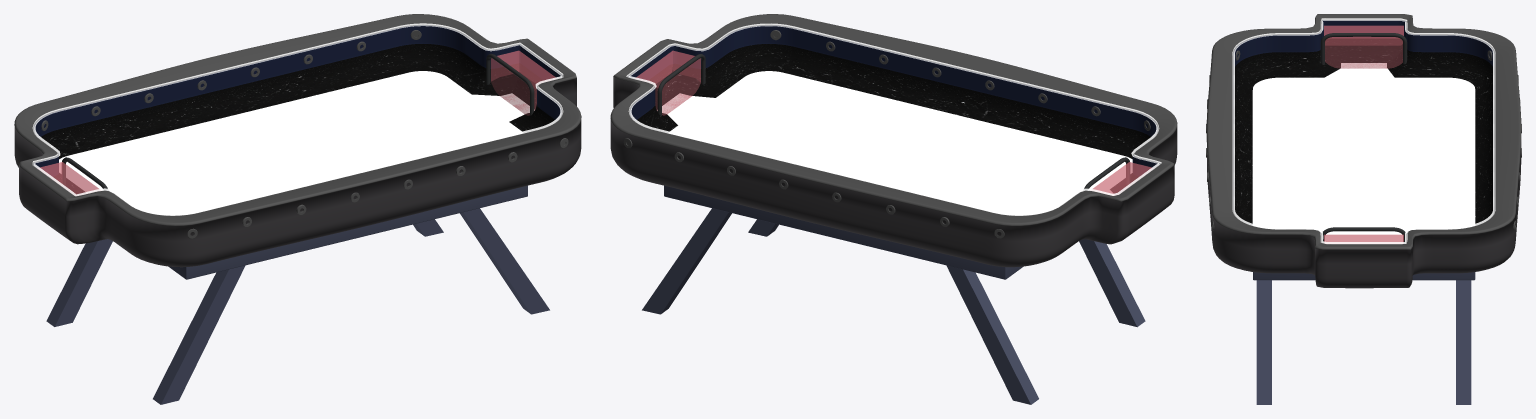
The model's file is fuzeball_table_arena.glb.
The picture shows the model from 3 angles, left to right: view 1: azimuth 30°, elevation 25°; view 2: azimuth 150°, elevation 25°; view 3: azimuth 270°, elevation 25°; orthographic projection. The views are drawn at different scales.
Visible parts, largest first — view 1: arena_bowl.001, field.001, led_ring.001, table_base.001, table_leg.005, table_leg.007, table_leg.004, goal_net_right.001, goal_net_left.001, goal_frame_l.002; view 2: arena_bowl.001, field.001, led_ring.001, table_base.001, table_leg.004, table_leg.006, table_leg.005, goal_net_right.001, goal_net_left.001, goal_frame_l.002; view 3: arena_bowl.001, field.001, goal_net_left.001, led_ring.001, table_leg.006, table_leg.007, table_base.001, goal_net_right.001, goal_frame_r.001, goal_frame_l.002.
Boxes of the visible parts, x1,y1,x2,y2 form: arena_bowl.001: [14, 14, 581, 267]; field.001: [59, 71, 534, 214]; led_ring.001: [32, 23, 563, 215]; table_base.001: [168, 185, 527, 279]; table_leg.005: [153, 265, 245, 404]; table_leg.007: [460, 208, 549, 314]; table_leg.004: [46, 239, 112, 326]; goal_net_right.001: [491, 50, 555, 115]; goal_net_left.001: [40, 162, 98, 194]; goal_frame_l.002: [486, 53, 534, 115]; arena_bowl.001: [610, 14, 1177, 267]; field.001: [657, 71, 1132, 214]; led_ring.001: [626, 23, 1161, 215]; table_base.001: [664, 185, 1022, 279]; table_leg.004: [946, 265, 1038, 404]; table_leg.006: [642, 208, 731, 314]; table_leg.005: [1079, 239, 1145, 327]; goal_net_right.001: [636, 50, 700, 115]; goal_net_left.001: [1093, 162, 1151, 193]; goal_frame_l.002: [657, 54, 705, 116]; arena_bowl.001: [1206, 14, 1521, 288]; field.001: [1252, 63, 1475, 241]; goal_net_left.001: [1324, 25, 1403, 68]; led_ring.001: [1232, 18, 1495, 244]; table_leg.006: [1456, 280, 1471, 404]; table_leg.007: [1256, 280, 1271, 404]; table_base.001: [1253, 272, 1475, 280]; goal_net_right.001: [1324, 234, 1403, 241]; goal_frame_r.001: [1320, 33, 1407, 64]; goal_frame_l.002: [1322, 227, 1405, 243].
Bounding box in the file's own units: 145 × 53.71 × 82.33.
Materials: 11 (1 with a texture image).
